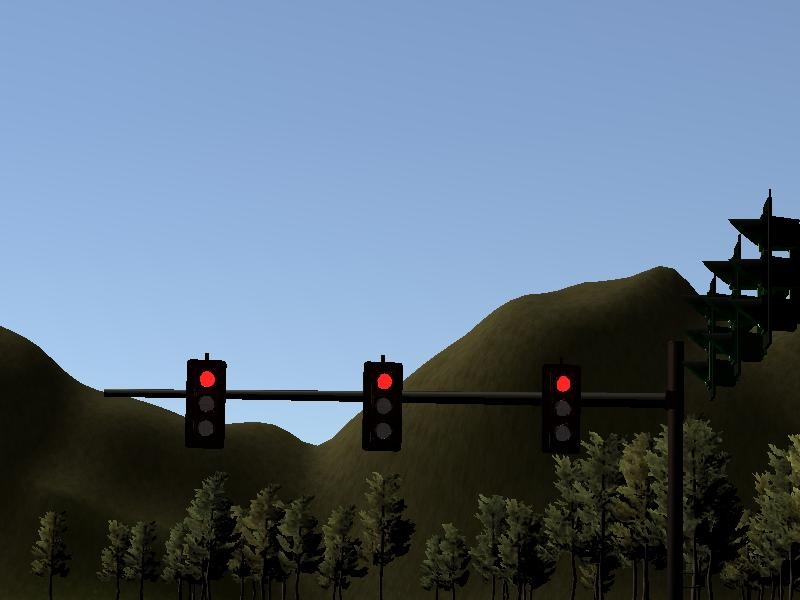traffic_light_red: (159, 354, 641, 451)
